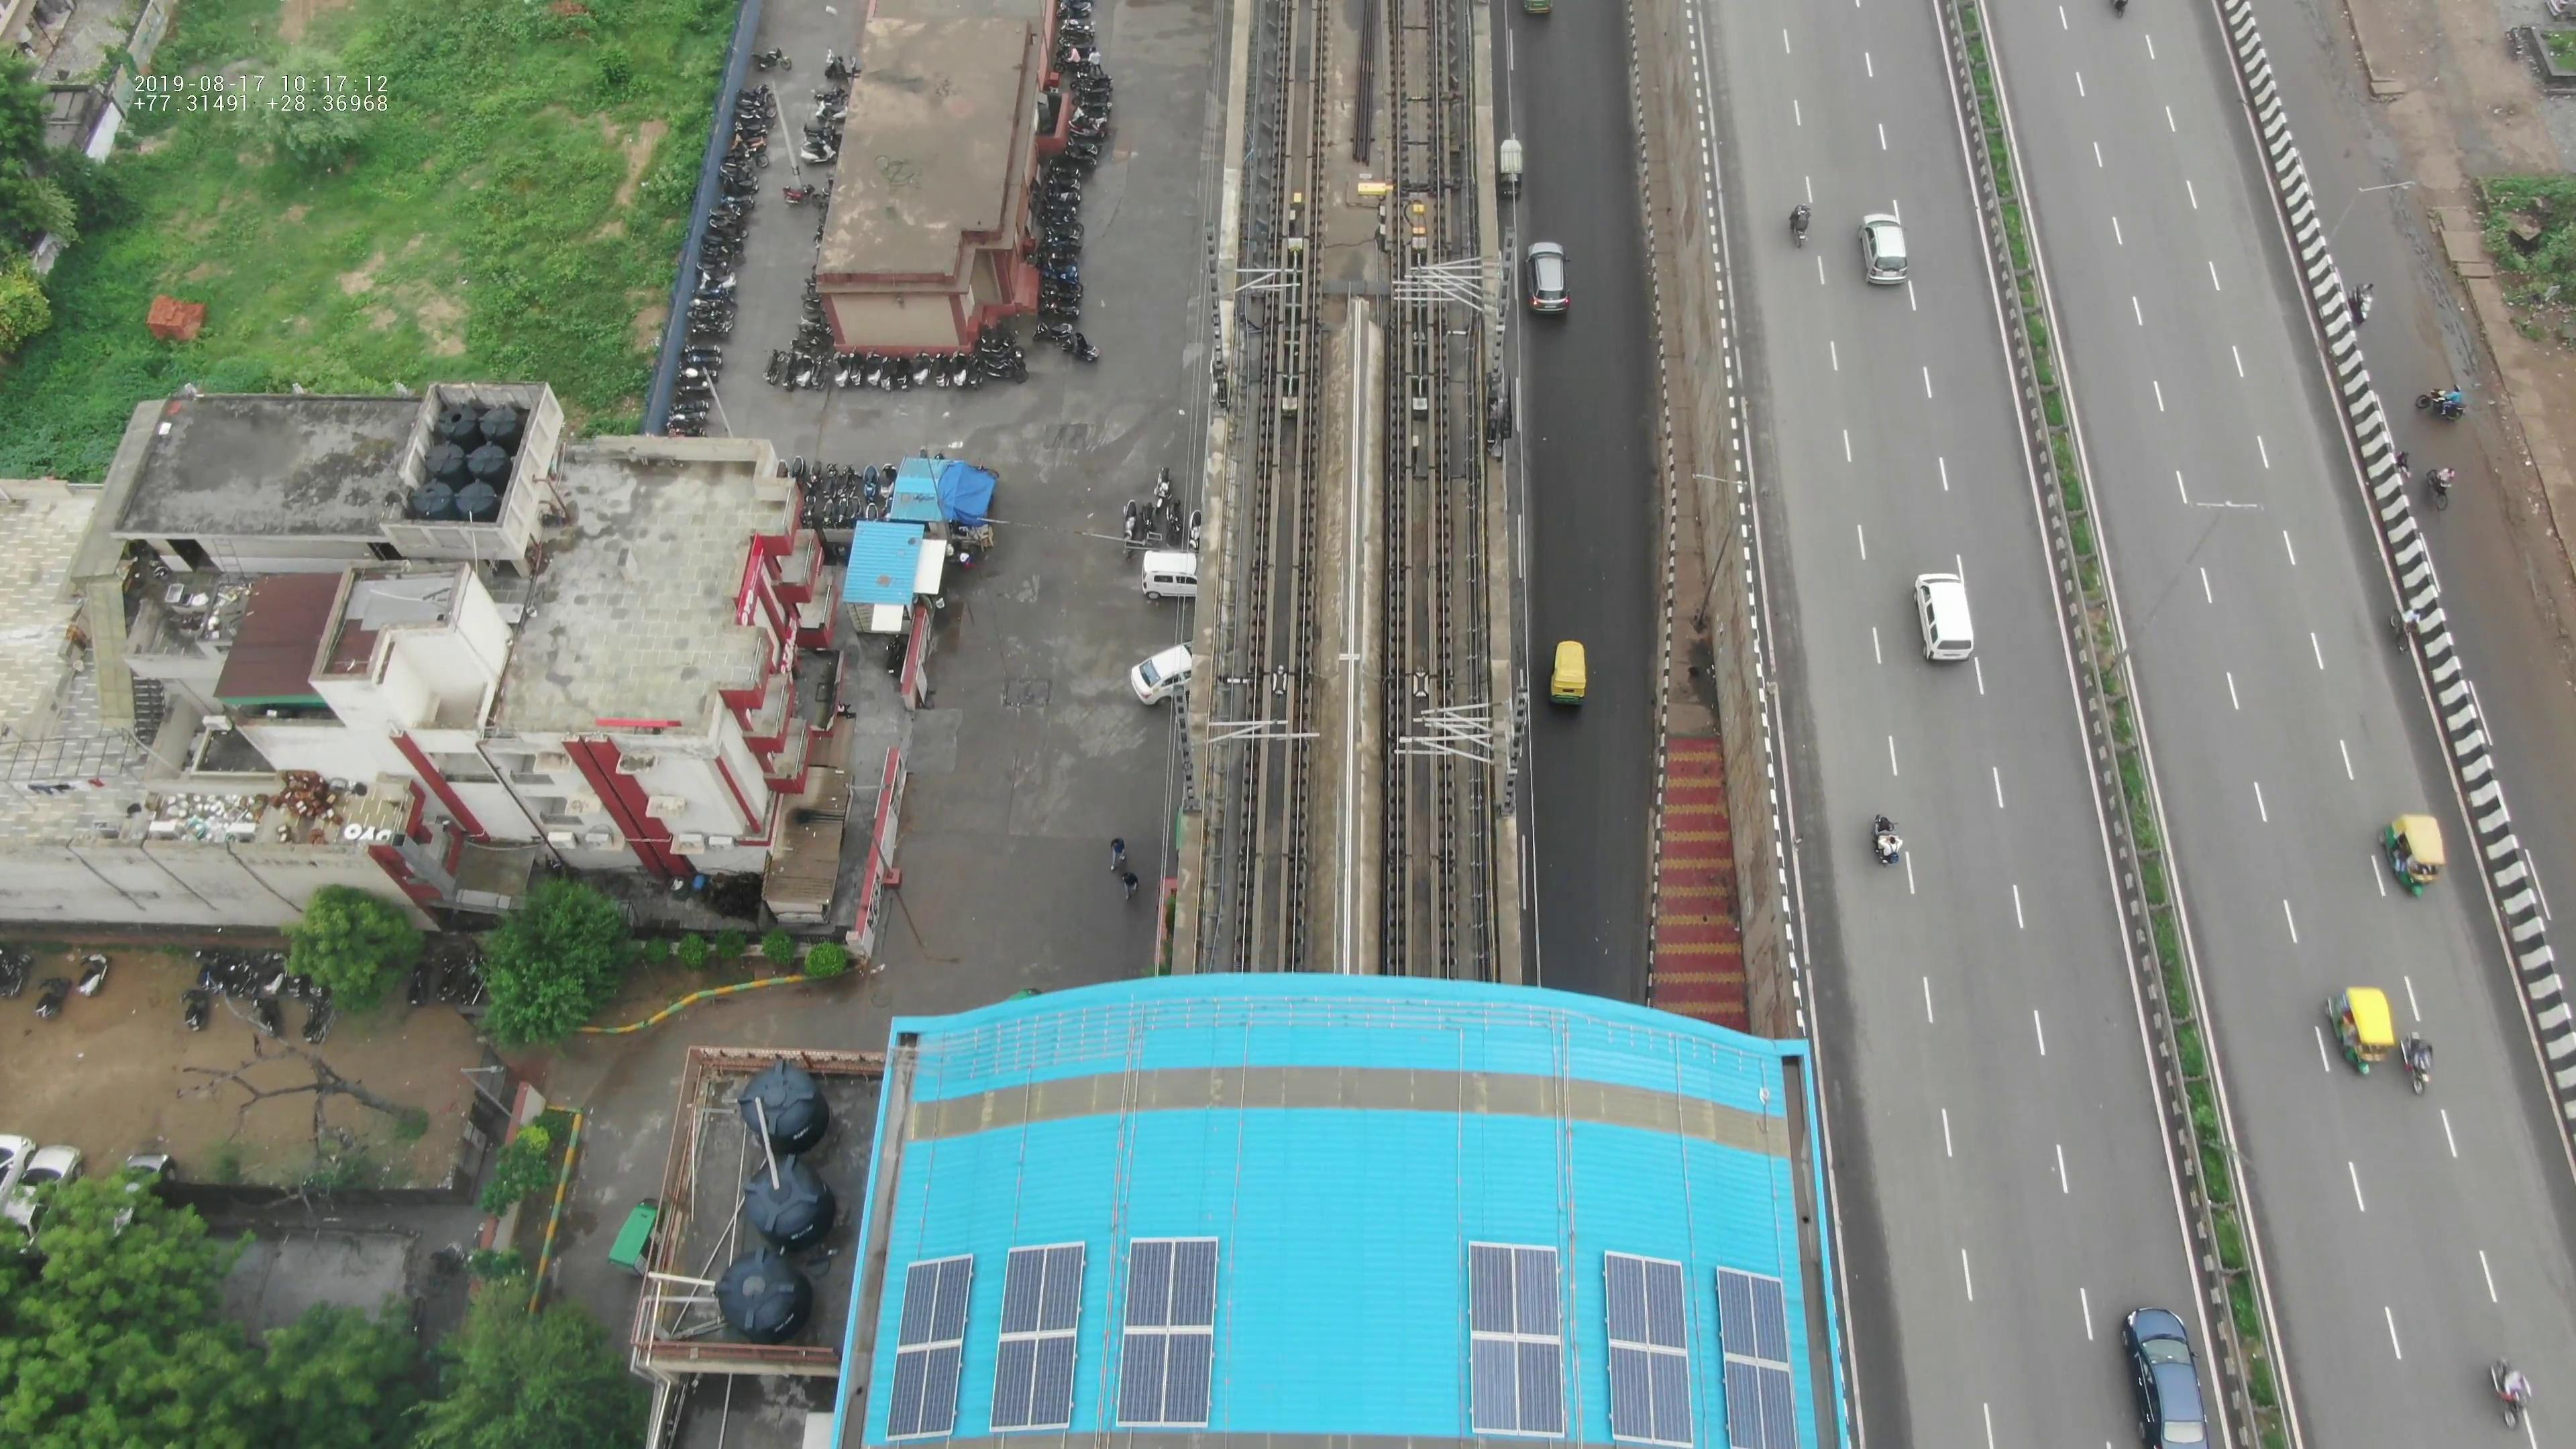Muddy_road: (2390, 92, 2519, 350)
